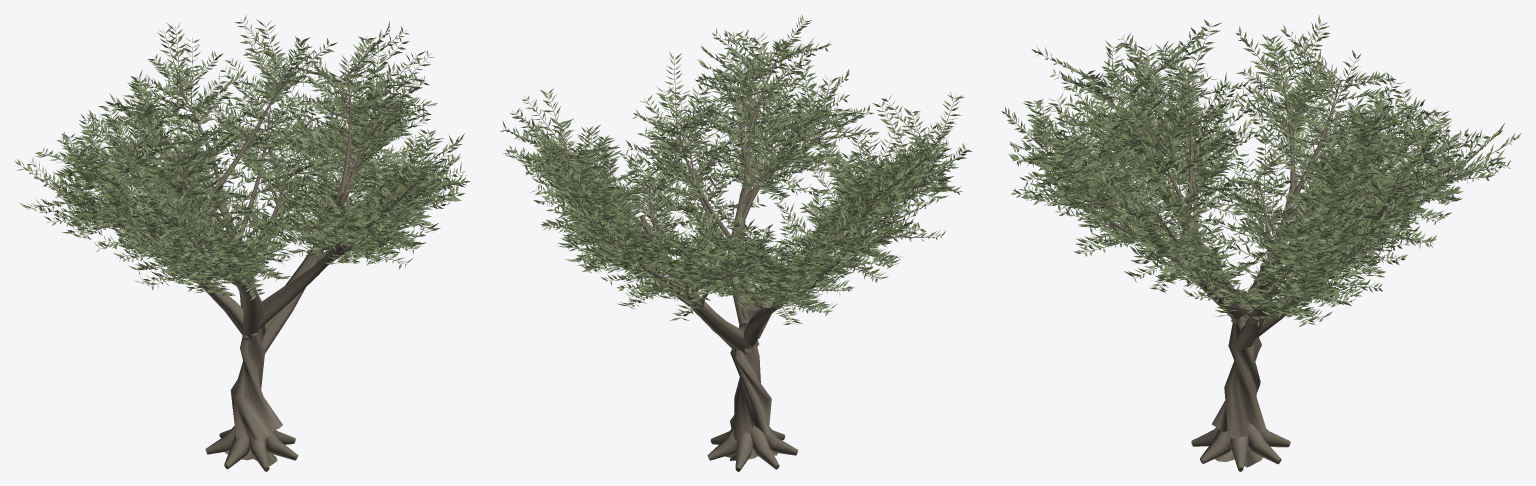
File: Olive.fbx
3 renders of one model, left to right at view 1: azimuth 30°, elevation 25°; view 2: azimuth 150°, elevation 25°; view 3: azimuth 270°, elevation 25°, orthographic. The views are drawn at different scales.
Visible parts, largest first — view 1: Olive_LOD0; view 2: Olive_LOD0; view 3: Olive_LOD0.
Part boxes in pixels (bbox=[...]): Olive_LOD0: bbox=[15, 15, 470, 471]; Olive_LOD0: bbox=[500, 14, 971, 471]; Olive_LOD0: bbox=[1001, 15, 1521, 471].
Size of what is drawn, in the model's own units: 455 by 367 by 452.
